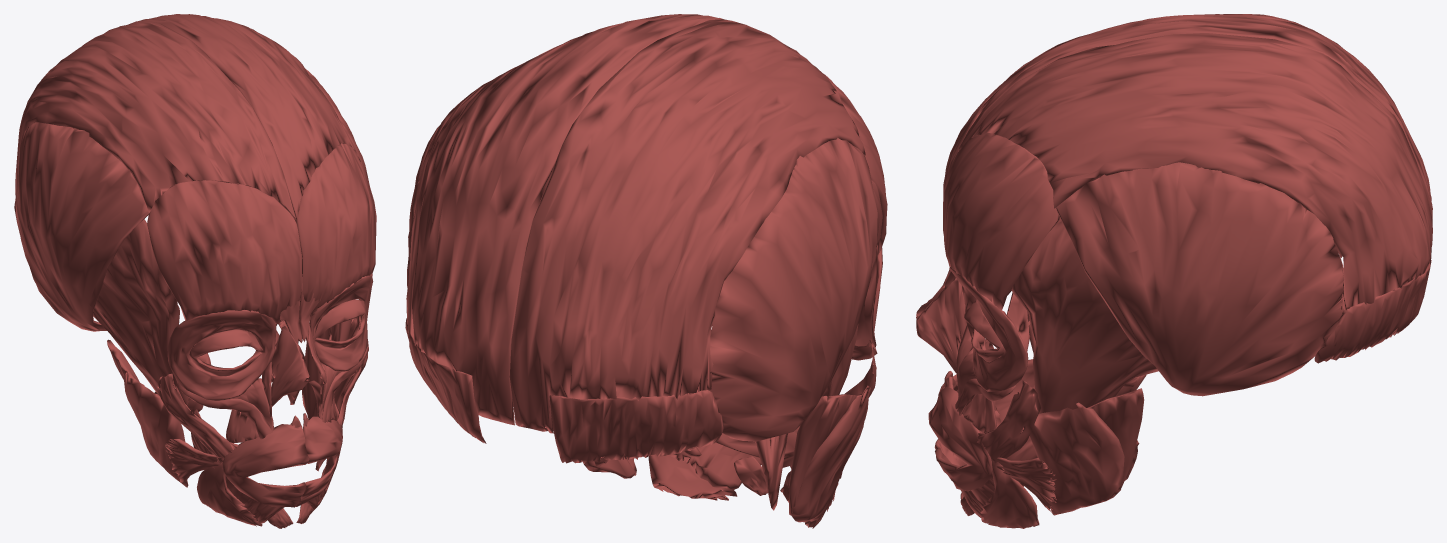
File: head.glb
3 views of the same model, side by side, from view 1: azimuth 30°, elevation 25°; view 2: azimuth 150°, elevation 25°; view 3: azimuth 270°, elevation 25° (orthographic). The views are drawn at different scales.
Parts seen in each view (by area): view 1: FMA46768, FMA46763, FMA46759, FMA46760, FMA49007, FMA46841, FMA46785, FMA49004, FMA46786, FMA46812, FMA55606, FMA46829 (+15 smaller); view 2: FMA46768, FMA46763, FMA46761, FMA49004, FMA46762, FMA49001, FMA46830, FMA46818, FMA46759, FMA49012, FMA46785, FMA49007 (+3 smaller); view 3: FMA46768, FMA46764, FMA49008, FMA46760, FMA49005, FMA46762, FMA46841, FMA46786, FMA55607, FMA46813, FMA46830, FMA49002 (+7 smaller).
Boxes of the visible parts, x1,y1,x2,y2 form: FMA46768: (15,14,360,219); FMA46763: (15,122,151,331); FMA46759: (147,180,302,323); FMA46760: (295,143,376,313); FMA49007: (93,219,188,405); FMA46841: (222,416,342,507); FMA46785: (167,310,276,400); FMA49004: (124,371,188,487); FMA46786: (309,274,373,371); FMA46812: (157,373,238,463); FMA55606: (271,326,309,406); FMA46829: (197,461,262,526); FMA46768: (406,14,865,433); FMA46763: (708,138,877,441); FMA46761: (549,390,723,463); FMA49004: (791,385,870,522); FMA46762: (405,317,486,443); FMA49001: (789,394,856,522); FMA46830: (648,454,737,500); FMA46818: (670,441,761,489); FMA46759: (823,73,887,254); FMA49012: (755,433,787,510); FMA46785: (855,245,882,347); FMA49007: (822,180,882,396); FMA46768: (958,14,1432,311); FMA46764: (1056,162,1343,396); FMA49008: (1011,221,1158,413); FMA46760: (943,133,1059,309); FMA49005: (1029,402,1124,515); FMA46762: (1314,260,1431,363); FMA46841: (928,374,996,491); FMA46786: (949,267,1028,391); FMA55607: (916,278,966,373); FMA46813: (977,380,1040,463); FMA46830: (980,460,1039,528); FMA49002: (1087,388,1144,489).
Size of the model in its own units: 0.1556 by 0.2031 by 0.1988.
